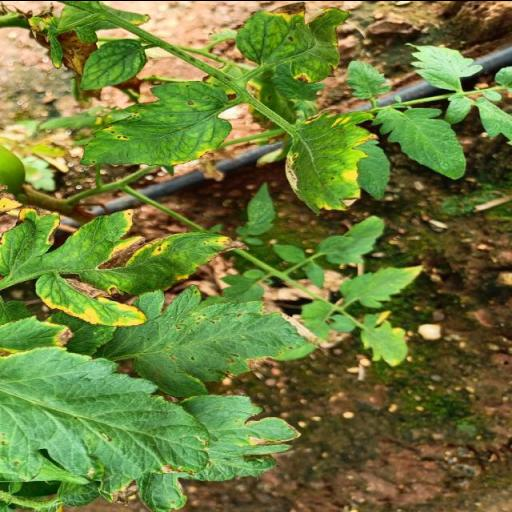Early Blight: (0, 206, 252, 328), (138, 284, 332, 388), (74, 76, 234, 168), (279, 104, 383, 216), (234, 0, 354, 86)
